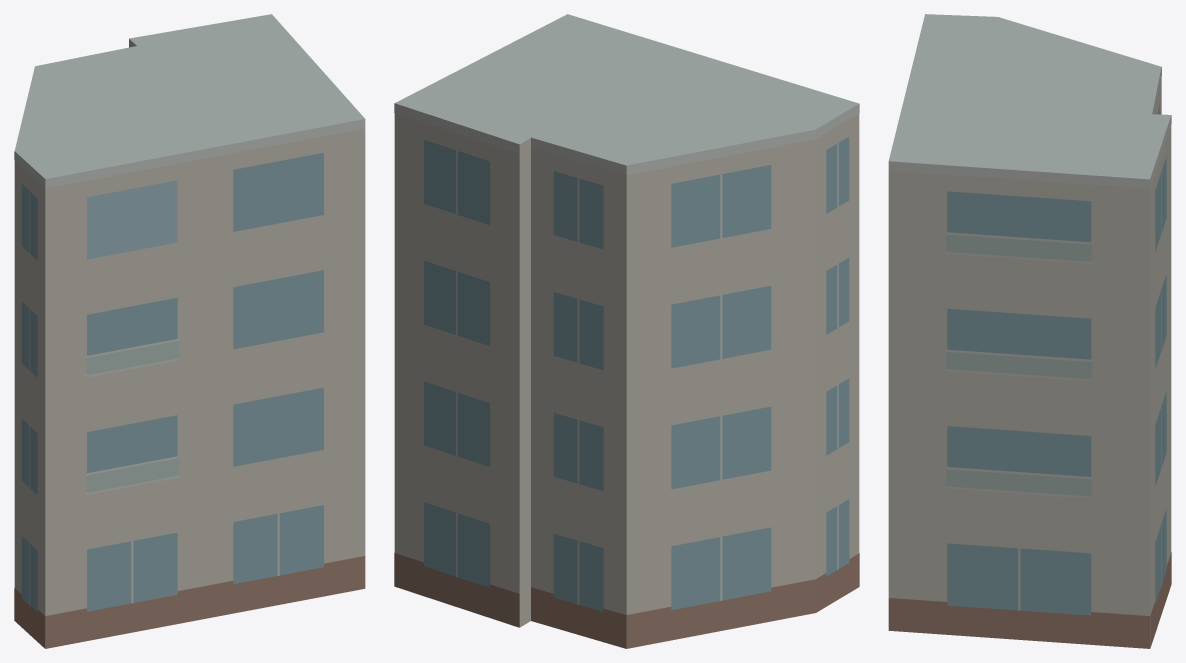
The model's file is survey-upis-32465817.glb.
3 renders of one model, left to right at view 1: azimuth 30°, elevation 25°; view 2: azimuth 150°, elevation 25°; view 3: azimuth 270°, elevation 25°, orthographic. The views are drawn at different scales.
Parts seen in each view (by area): view 1: survey-upis-32465817.tmp; view 2: survey-upis-32465817.tmp; view 3: survey-upis-32465817.tmp.
Part boxes in pixels (x1=…): survey-upis-32465817.tmp: x1=14, y1=14, x2=365, y2=648; survey-upis-32465817.tmp: x1=394, y1=14, x2=859, y2=648; survey-upis-32465817.tmp: x1=888, y1=14, x2=1171, y2=648.
Size of the model in its own units: 9.23 by 12.2 by 6.67.
